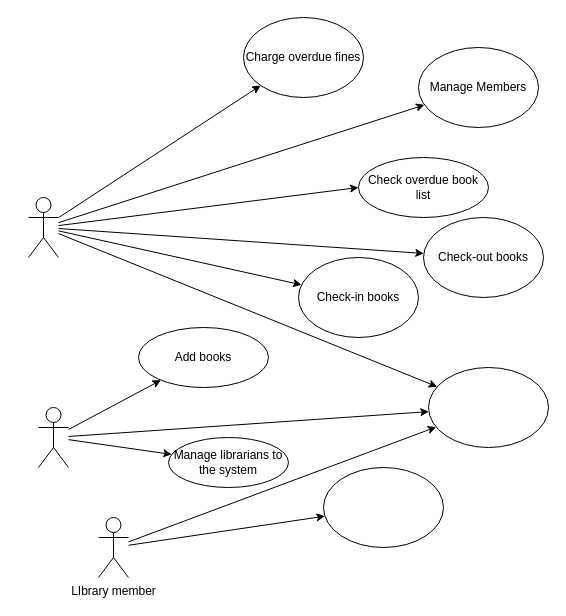
Some shapes in this 566 by 616 pixel diagram are drawn without their labels. The shapes that lost their labels are listed below. From the top down, each one's box as (x1, y1, x2, y2) in pixels, then its label:
(28, 196, 58, 258): Librarian
(428, 366, 548, 448): Log-in and Log-out
(38, 406, 68, 468): Library Admin
(322, 466, 444, 548): Search books
